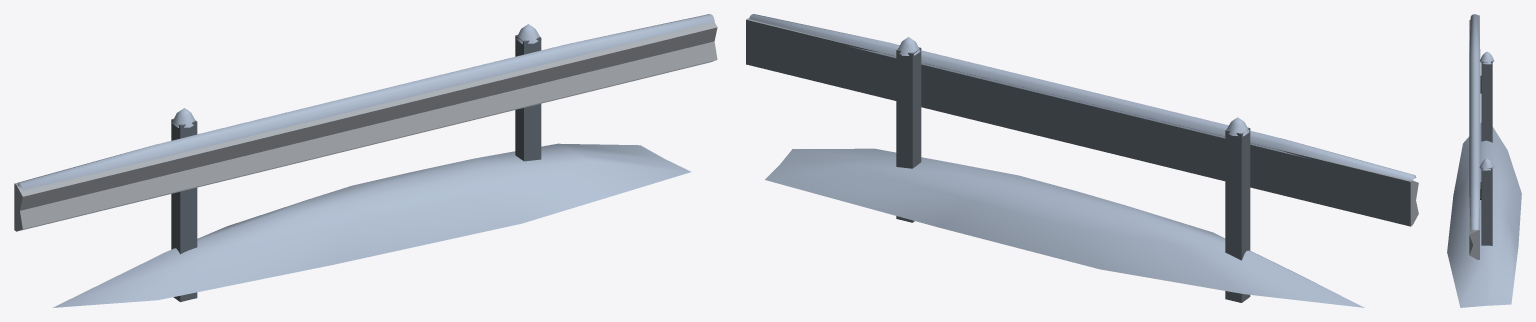
File: guardrail.glb
The picture shows the model from 3 angles, left to right: view 1: azimuth 30°, elevation 25°; view 2: azimuth 150°, elevation 25°; view 3: azimuth 270°, elevation 25°; orthographic projection. The views are drawn at different scales.
Visible parts, largest first — view 1: Rail; view 2: Rail; view 3: Rail.
Boxes of the visible parts, box(x1,y1,x2,y2) form: Rail: box(14, 14, 717, 307); Rail: box(746, 14, 1418, 307); Rail: box(1447, 14, 1521, 307).
Bounding box in the file's own units: 4.04 × 1.05 × 0.5944.
